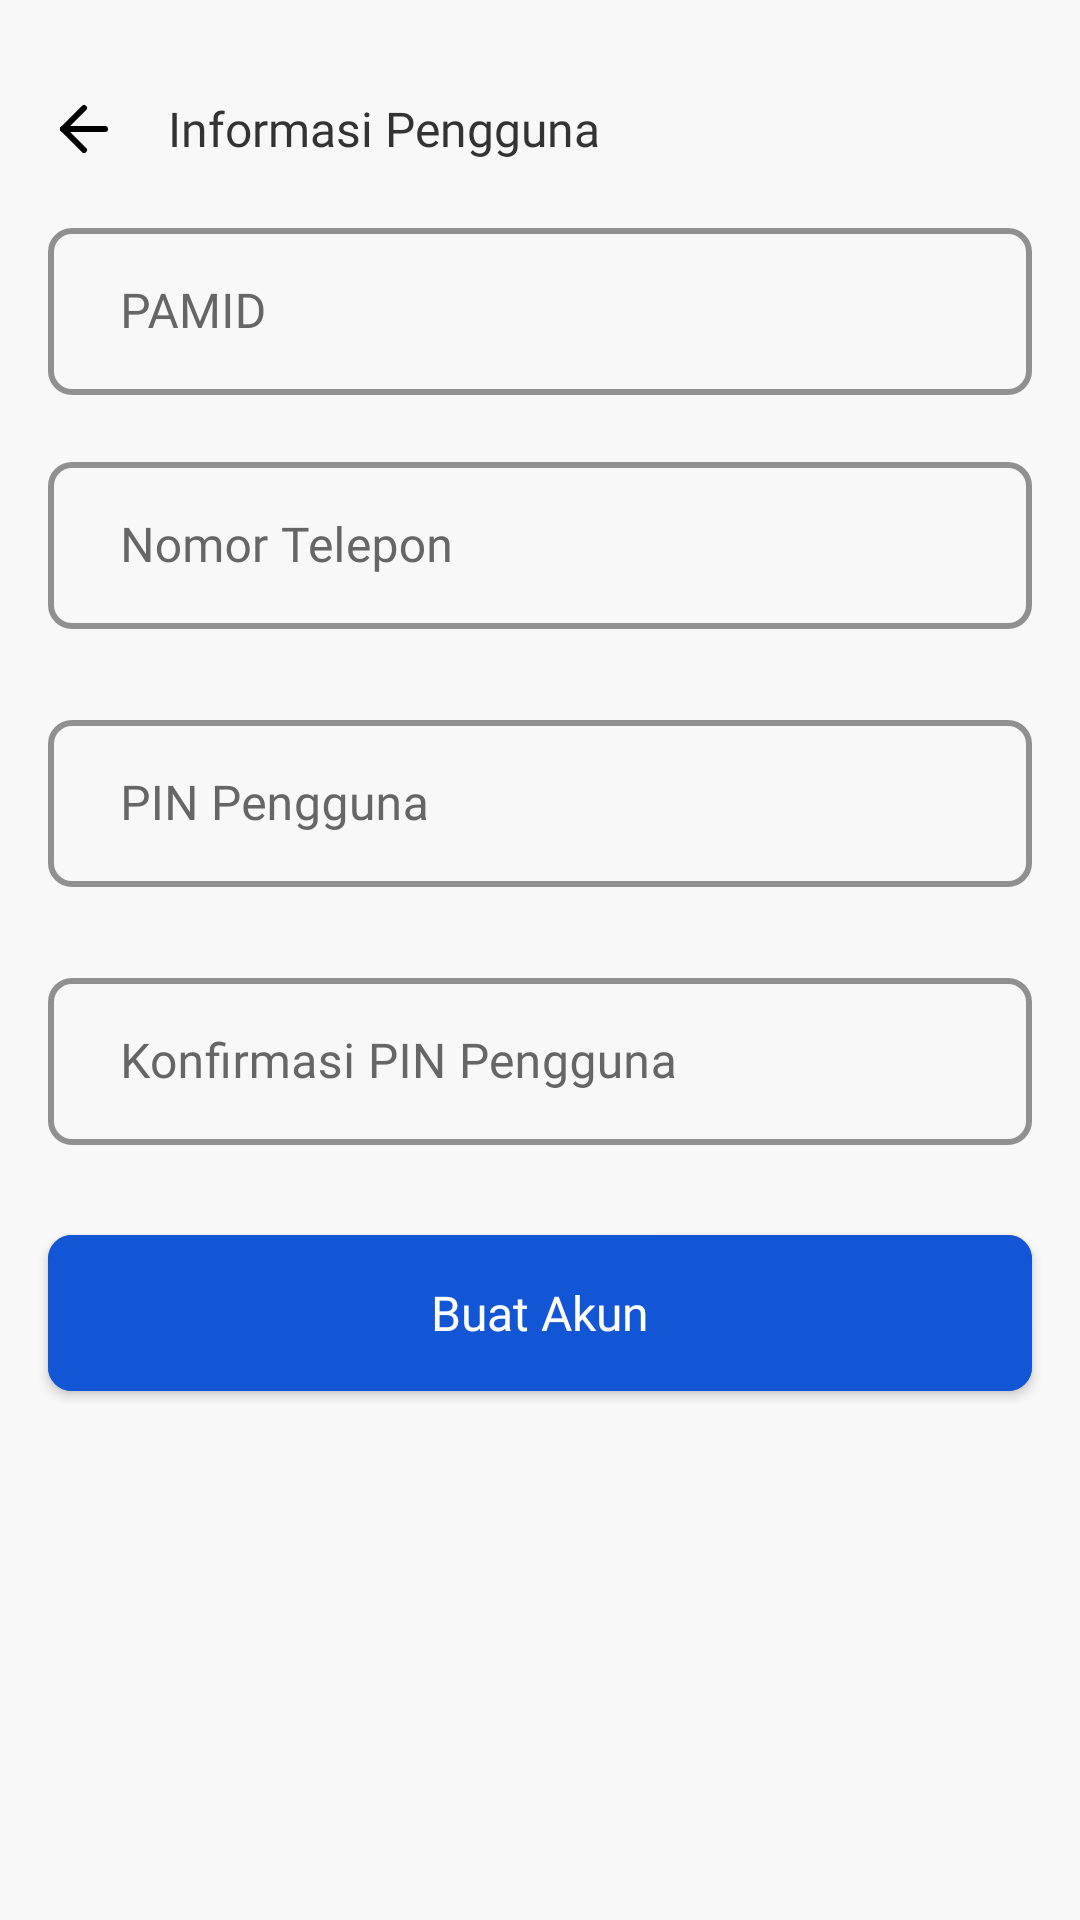

Named icons in this screenshot (1080w x 1920h) and their centers, [x,y]:
back: [84,129]
